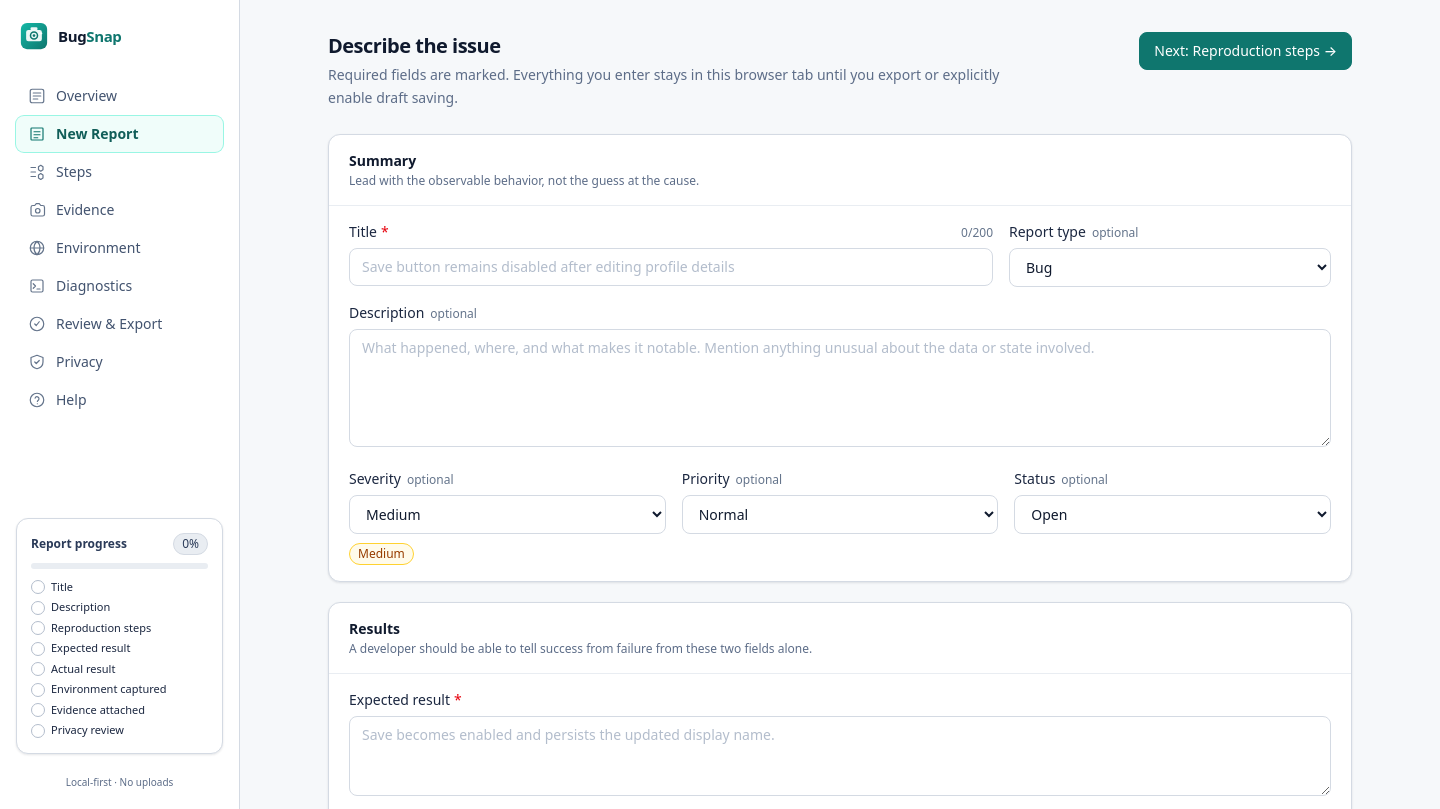
Test case: report builder state retention › adds a step via the template and numbers it
The width and height of the screenshot is (1440, 809).
Click the link "Steps" at (60, 172), box [28,162,92,181]
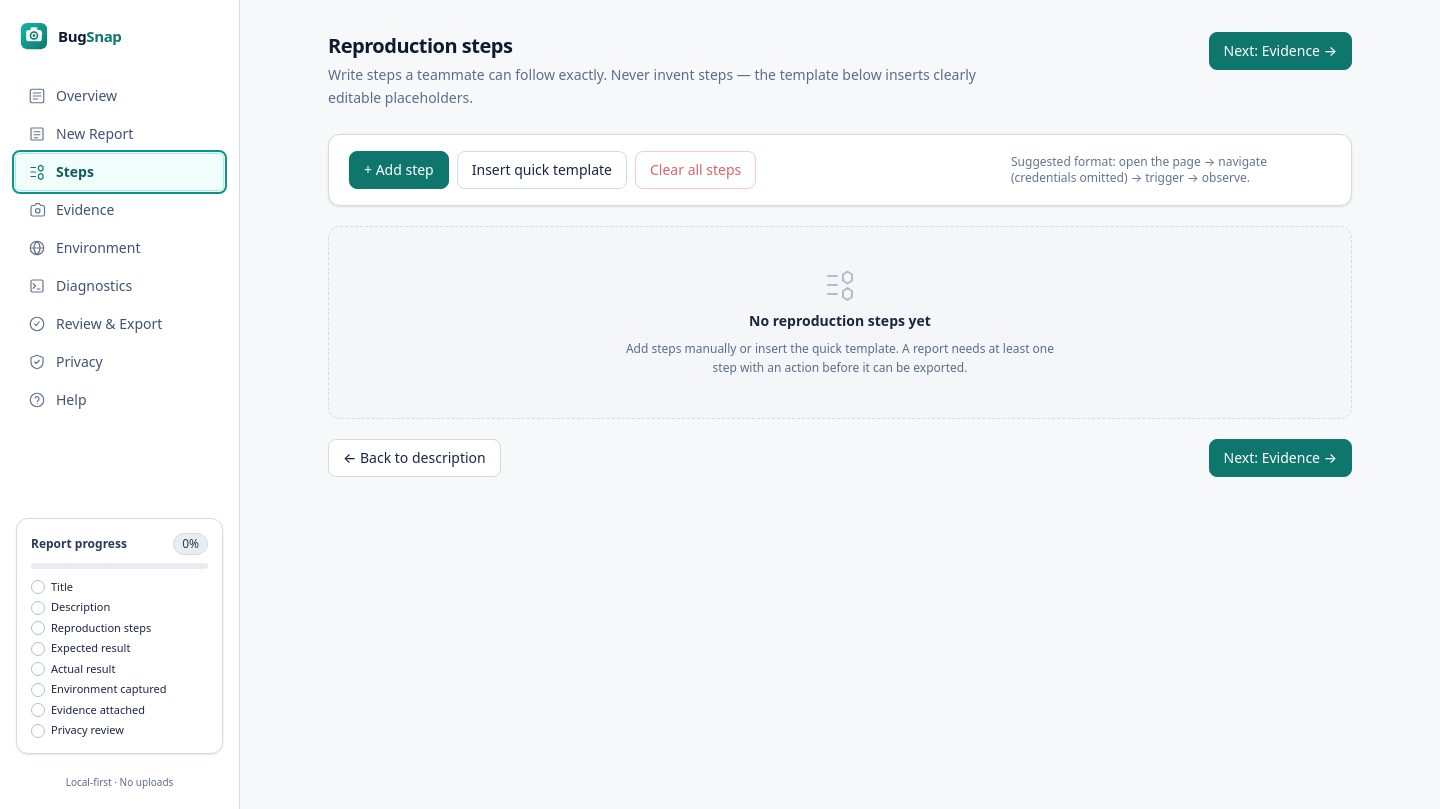
Click the button "Insert quick template" at (542, 170), box [457,150,627,188]
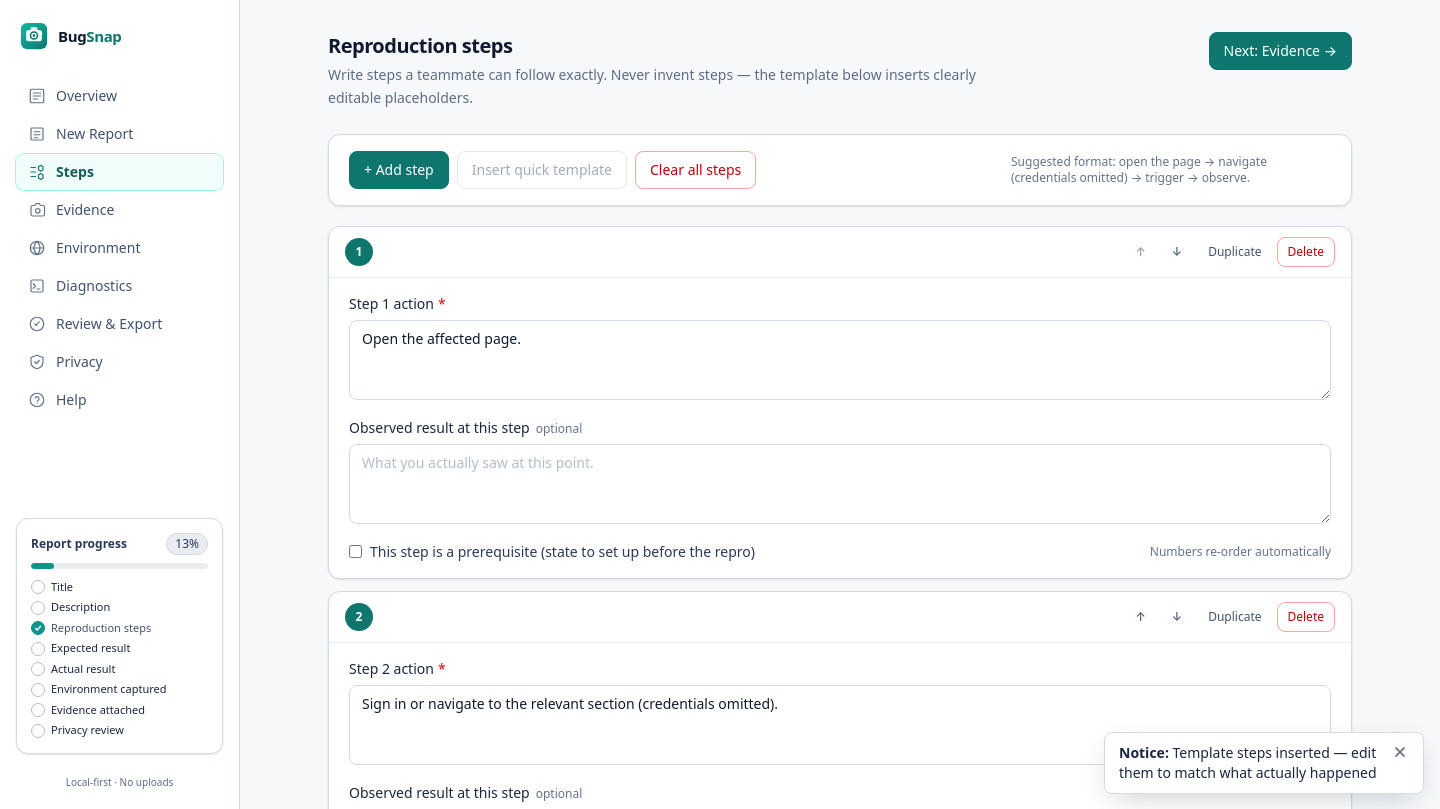
Now the text "Step 1 action" is shown, box [349,294,434,312]
Now the button "Insert quick template" is disabled, box [457,150,627,188]
Click the button "+ Add step" at (399, 170), box [349,150,449,188]
(page scrolled)
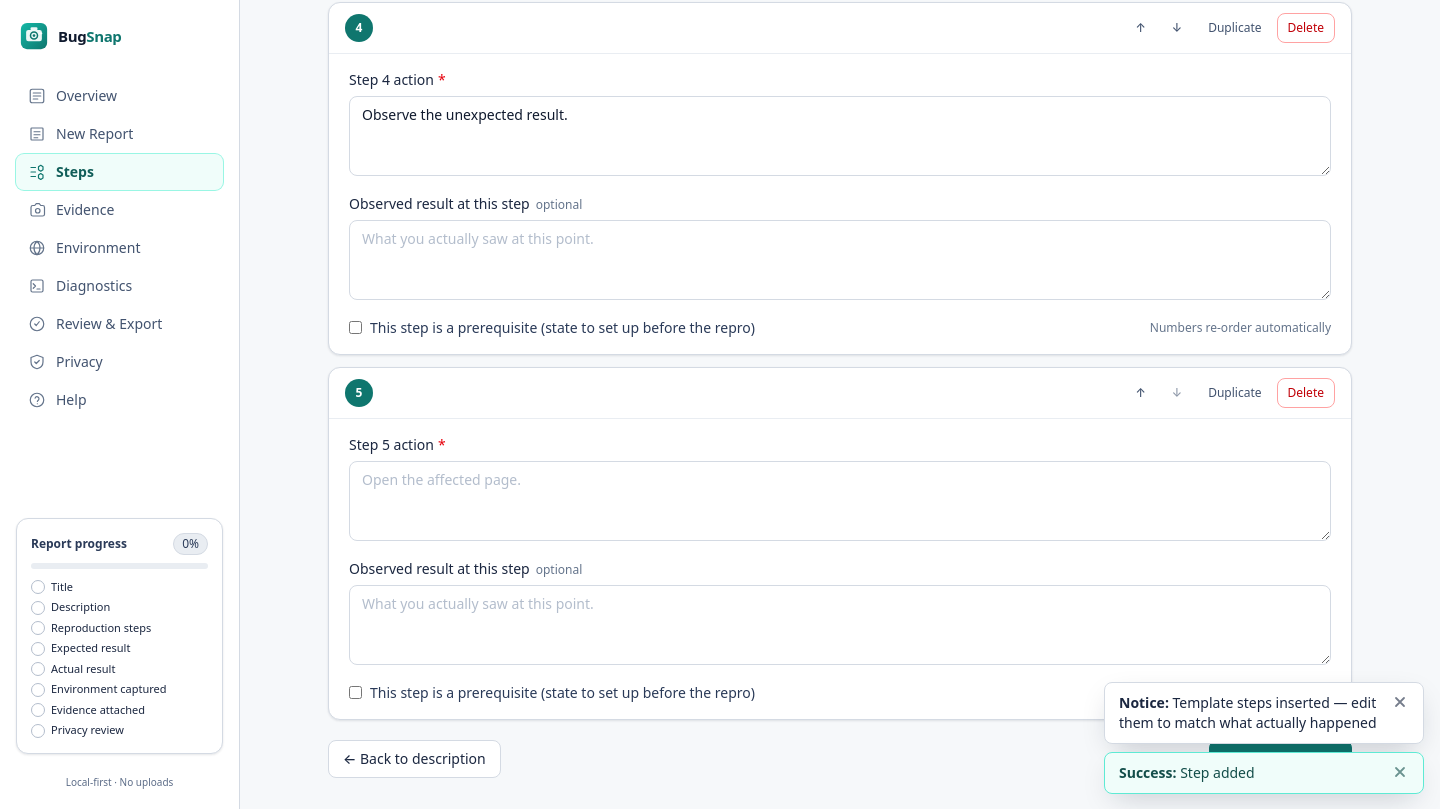
Now the text "Step 5 action" is shown, box [349,434,434,454]
